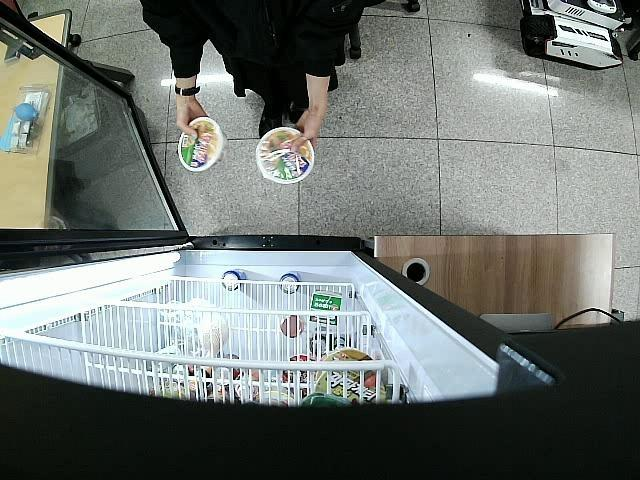09_yukGaeJang: (254, 127, 315, 184), (177, 117, 228, 172)
